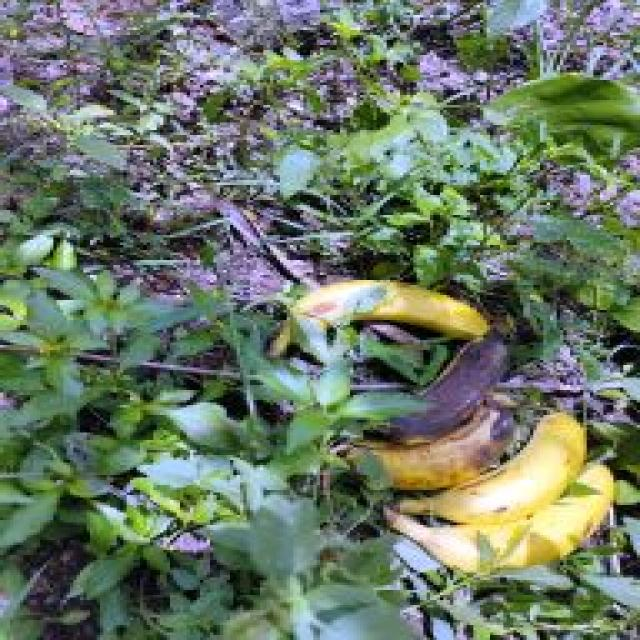Organik: (400, 469, 630, 600), (417, 400, 598, 545), (260, 256, 498, 358), (354, 396, 583, 492), (330, 328, 502, 442)
